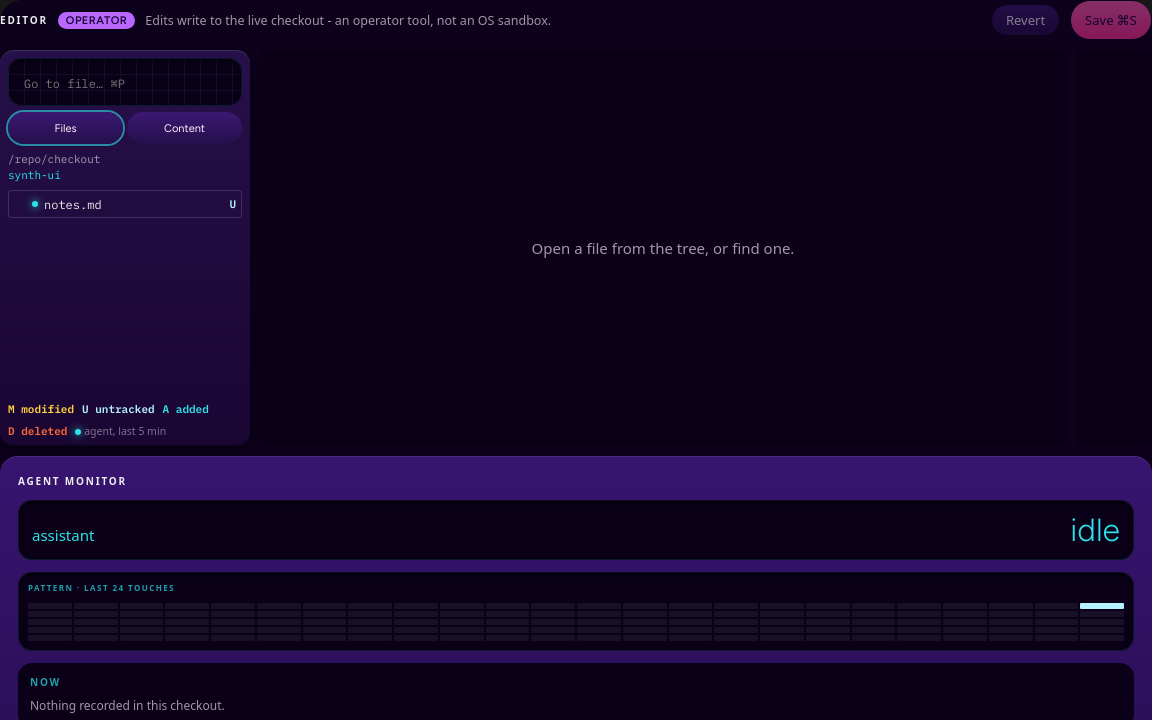
it: a refusal after confirming keeps the buffer and offers both versions
The width and height of the screenshot is (1152, 720).
Click the text "notes.md".
click(73, 204)  # box [44,196,102,212]
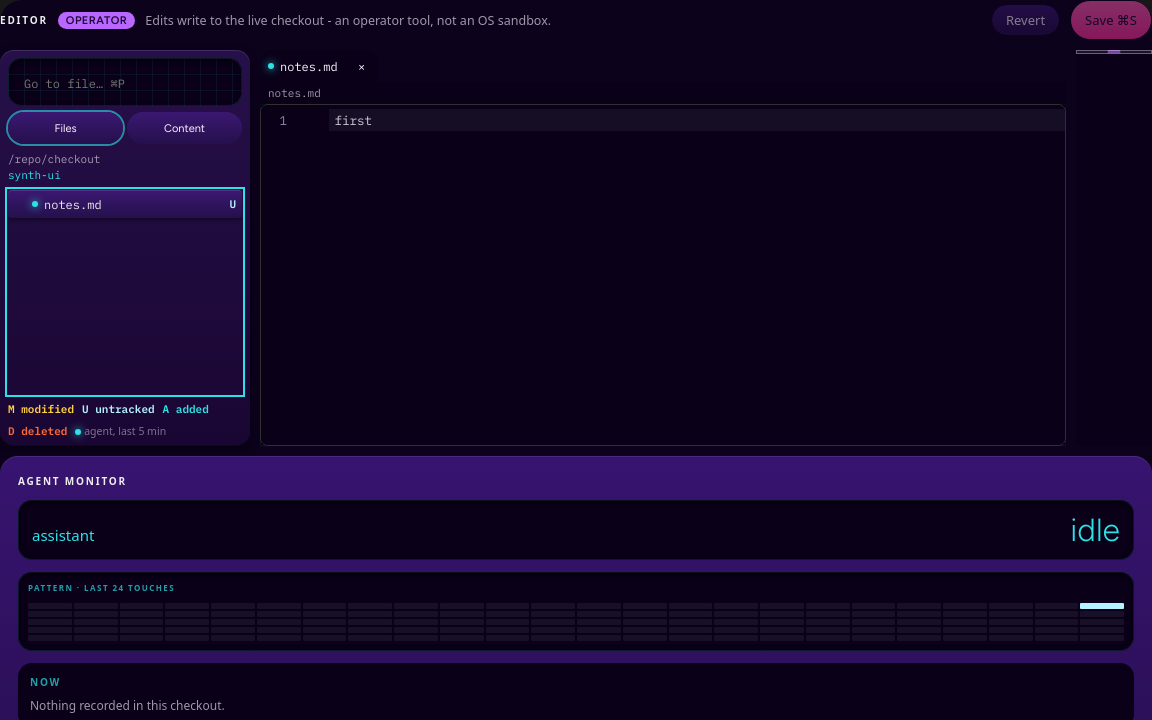
Expected: the field with class "cm-content" is shown
Click the field with class "cm-content".
click(697, 120)  # box [328,109,1065,131]
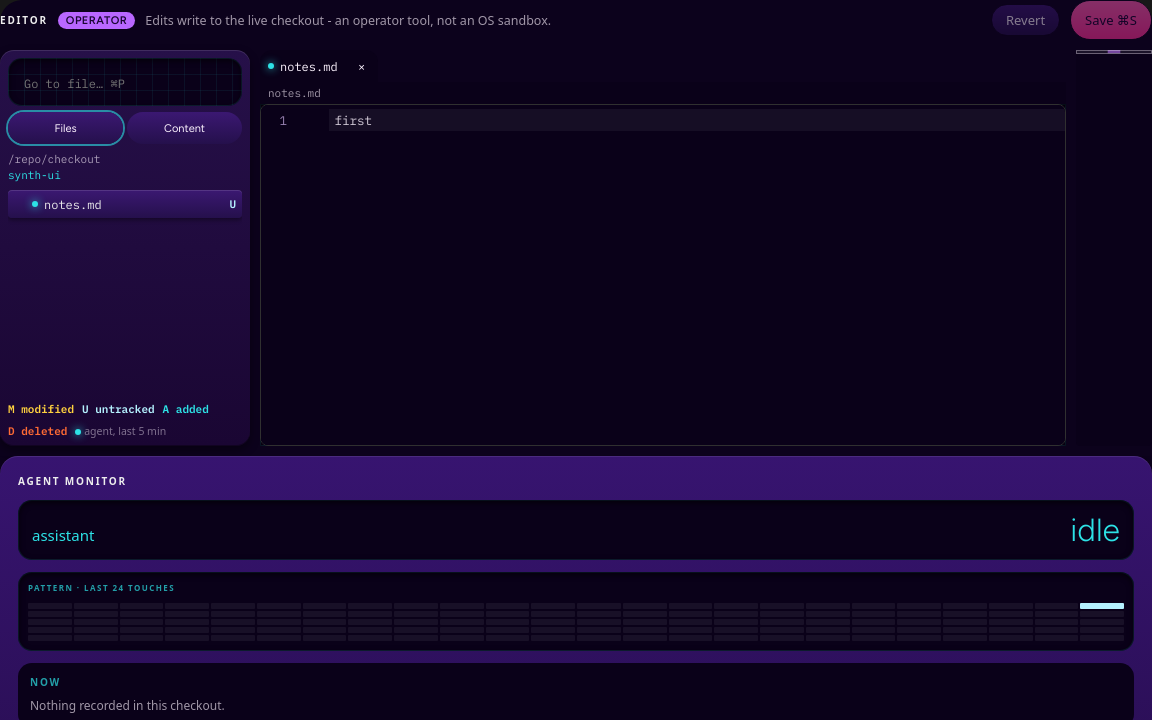
Press End
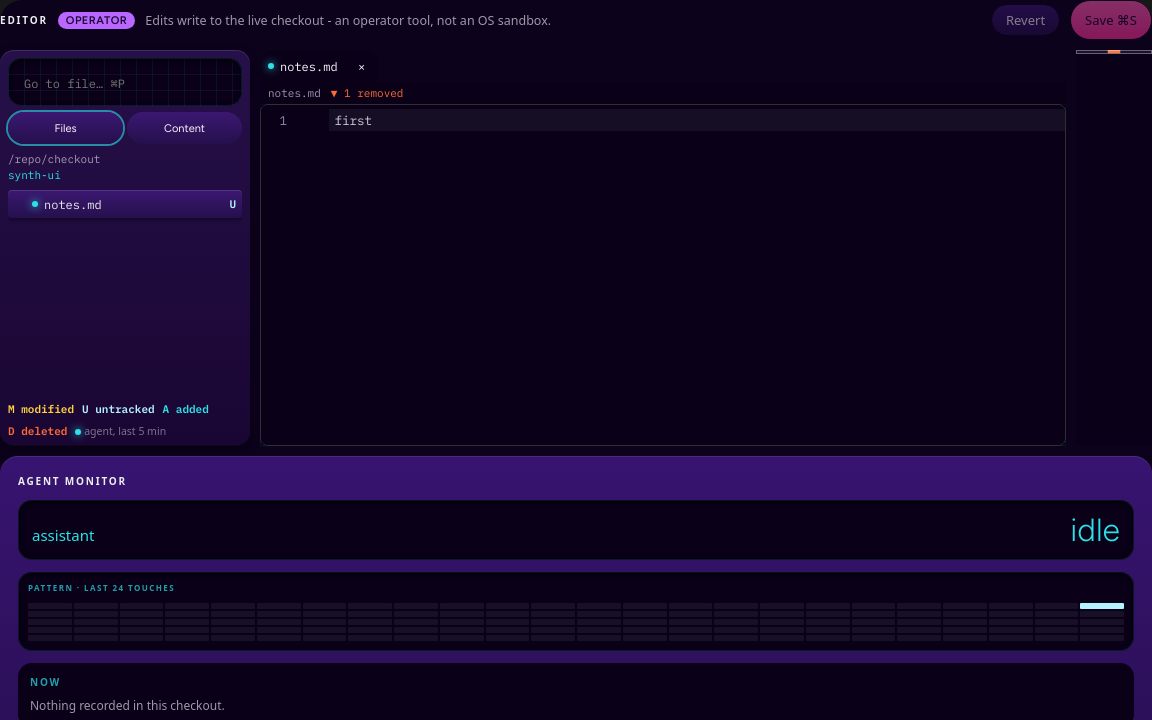
Type keys " mine"
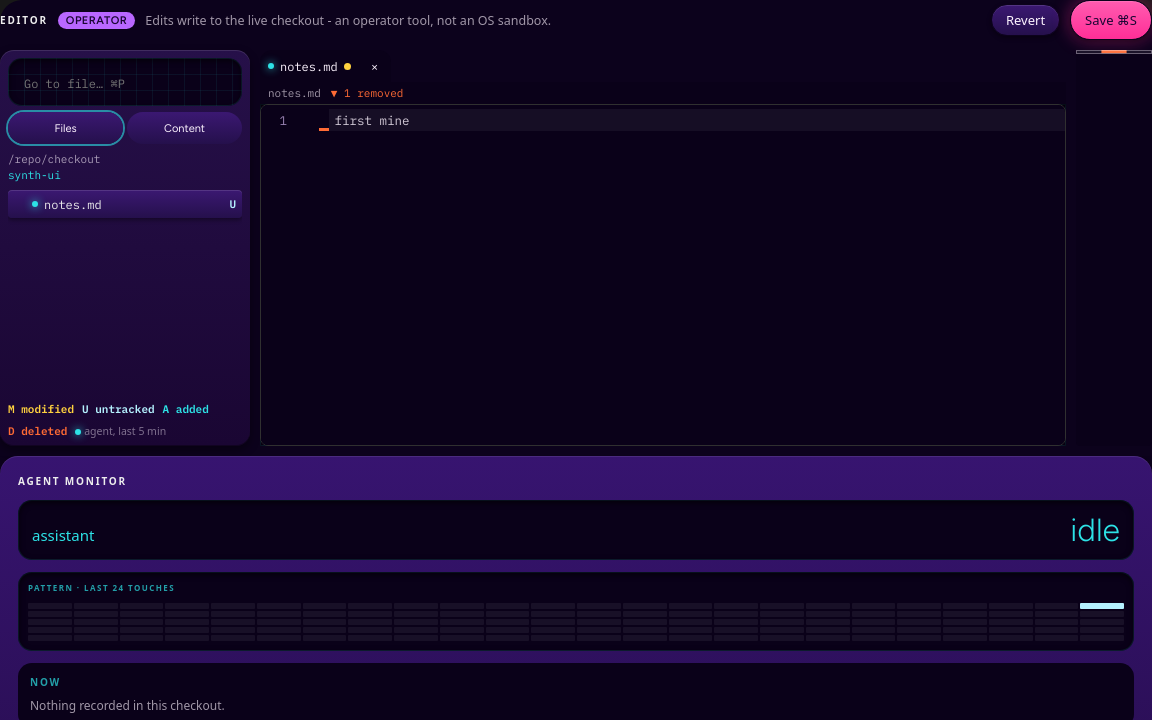
Click the button "Save ⌘S".
click(1111, 20)  # box [1070,0,1151,40]
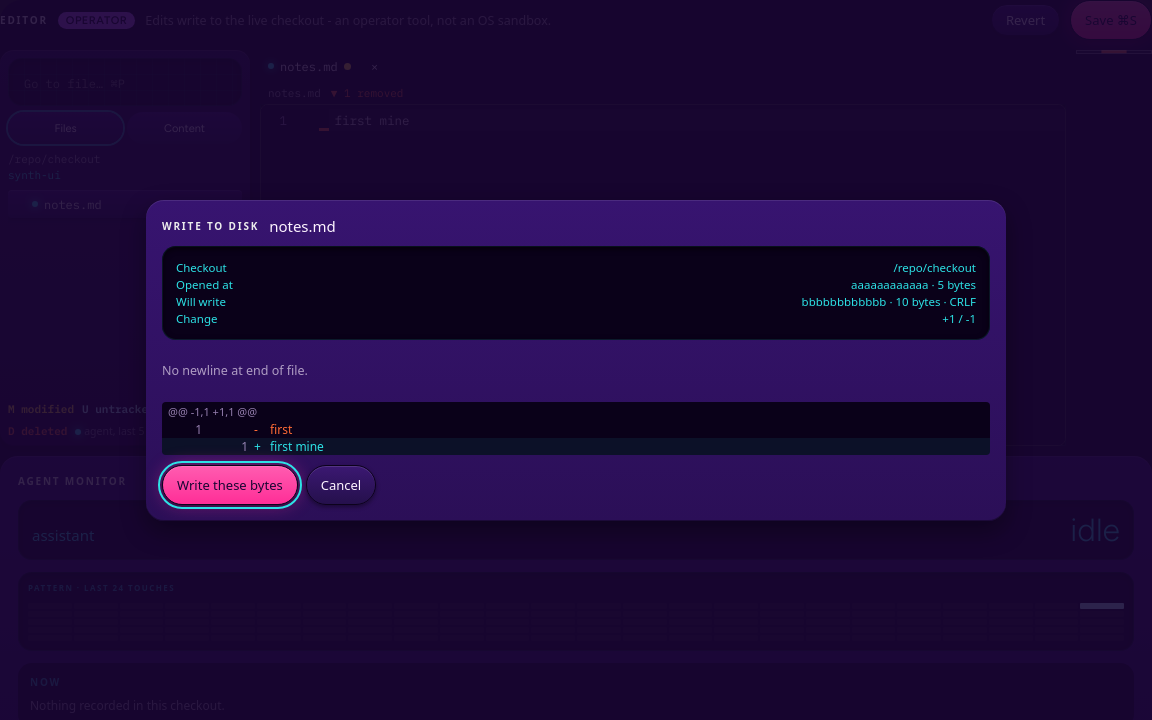
Click the button "Write these bytes".
click(230, 484)  # box [162,464,298,504]
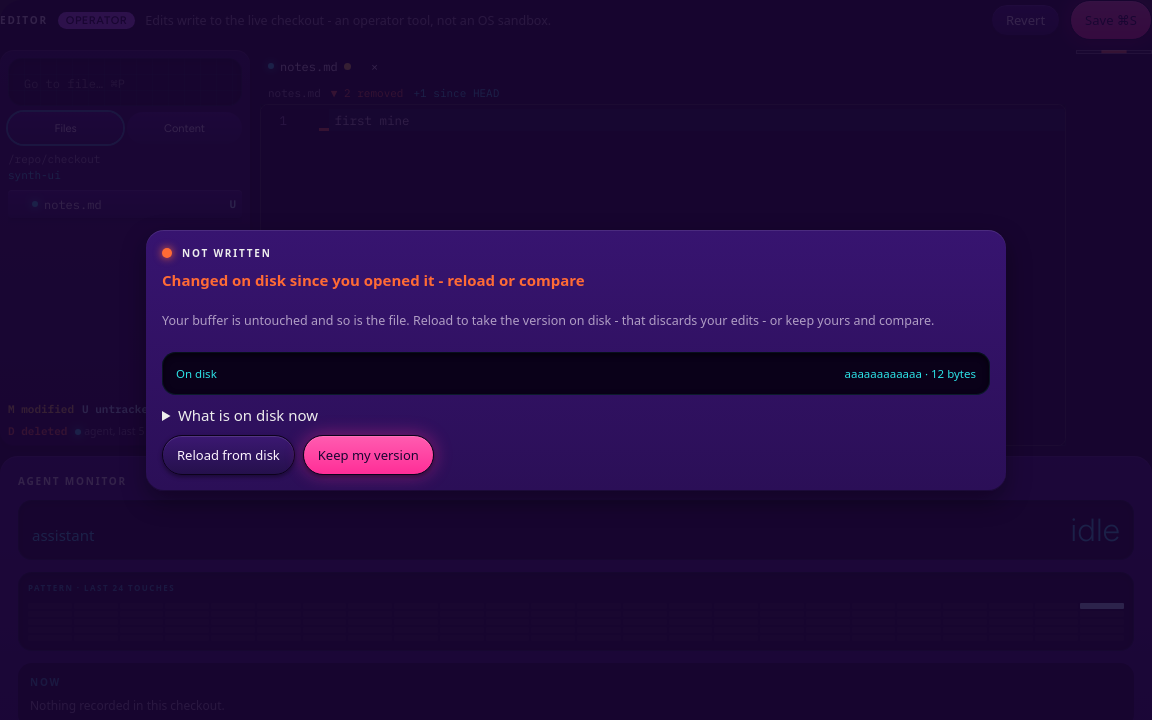
Expected: the text box labelled "first mine" is shown, [328,109,1065,131]
Expected: the dialog named "Save refused" shows "Changed on disk since you opened it - reload or compare", [162,270,585,290]
